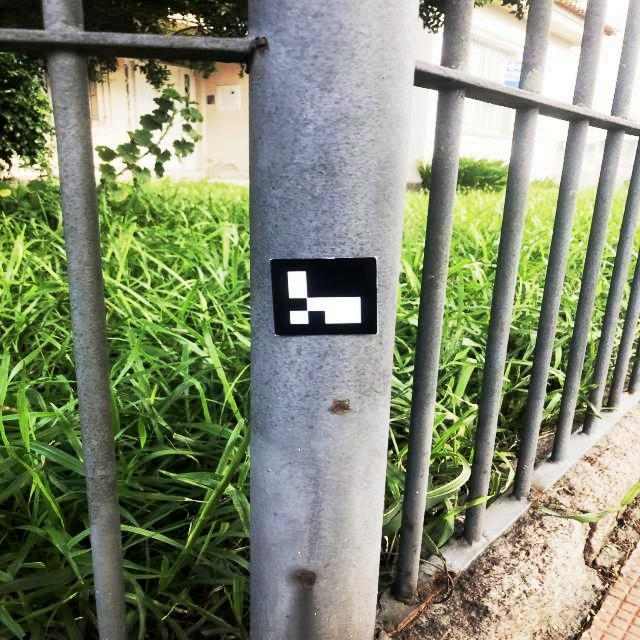Corrosion: (374, 567, 465, 640), (246, 35, 271, 67), (291, 571, 317, 591), (330, 398, 354, 414), (527, 486, 544, 503), (454, 533, 464, 542), (626, 390, 636, 395)
